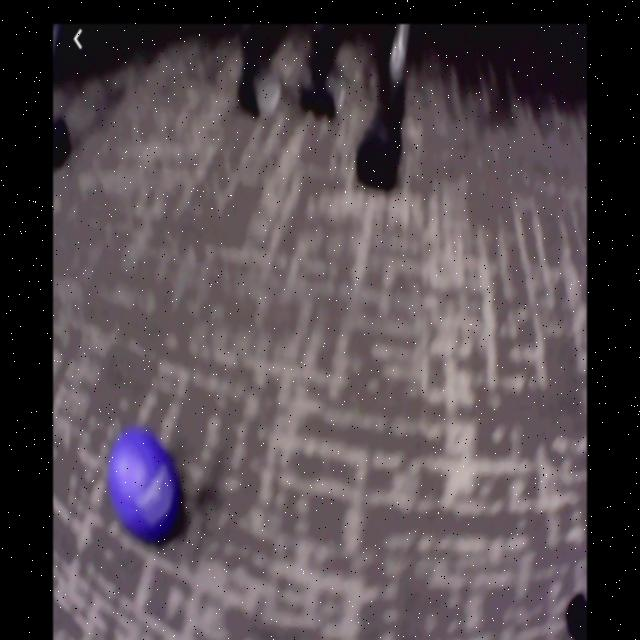ball: (111, 429, 184, 543)
